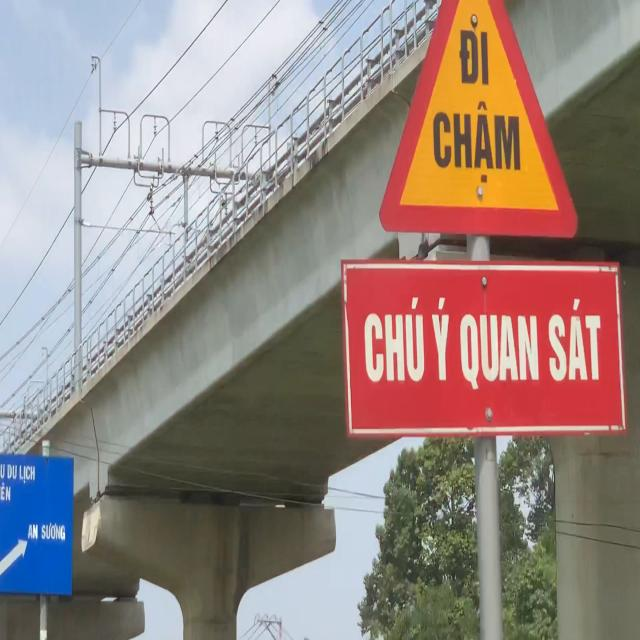Nguy hiem: (371, 0, 582, 248)
